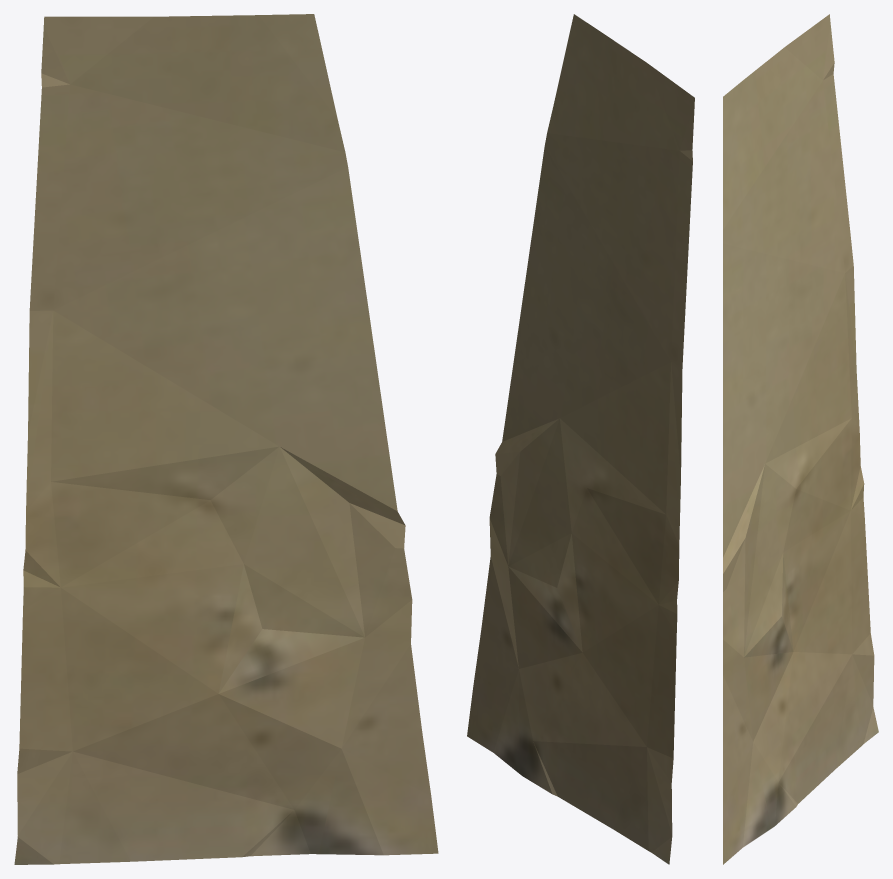
3 views of the same model, side by side, from view 1: azimuth 30°, elevation 25°; view 2: azimuth 150°, elevation 25°; view 3: azimuth 270°, elevation 25° (orthographic). The views are drawn at different scales.
Bounding box in the file's own units: 0.3321 × 0.8373 × 0.1647.
1 material, 1 textured.
